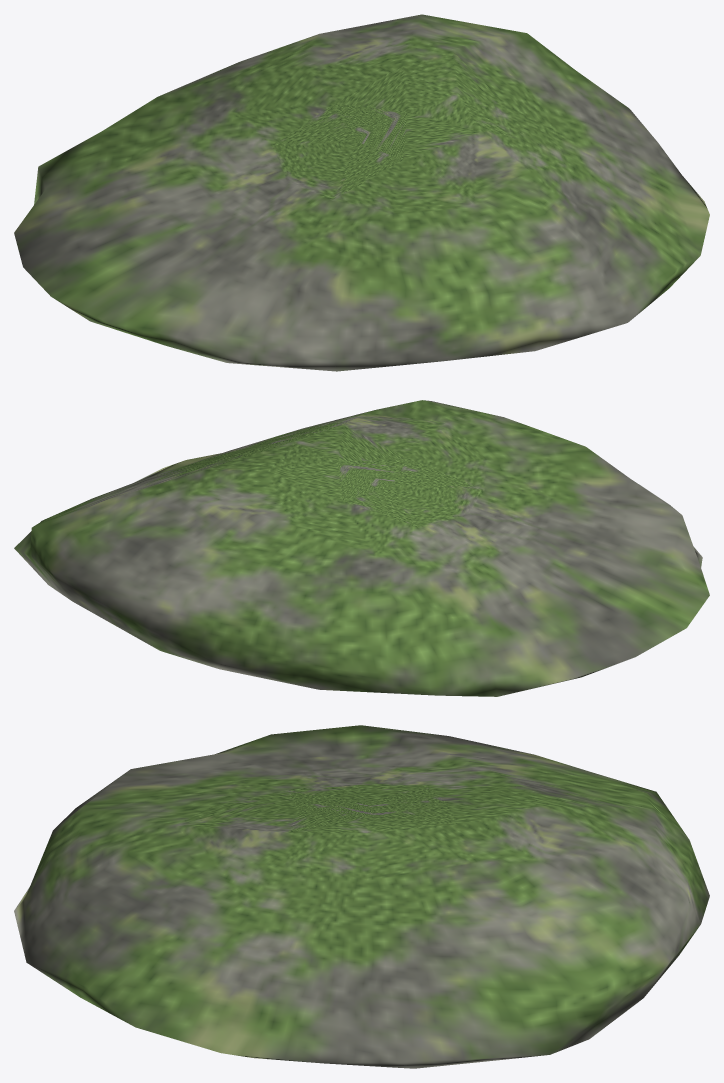
File: rock_grassland_flat_a.glb
3 views of the same model, one above another, from view 1: azimuth 30°, elevation 25°; view 2: azimuth 150°, elevation 25°; view 3: azimuth 270°, elevation 25° (orthographic). The views are drawn at different scales.
Parts seen in each view (by area): view 1: rock_grassland_flat_a; view 2: rock_grassland_flat_a; view 3: rock_grassland_flat_a.
Boxes of the visible parts, x1,y1,x2,y2 form: rock_grassland_flat_a: (14, 14, 709, 371); rock_grassland_flat_a: (14, 400, 709, 696); rock_grassland_flat_a: (14, 725, 709, 1068).
Size of the model in its own units: 2.42 by 0.428 by 2.15.
1 material, 1 textured.
